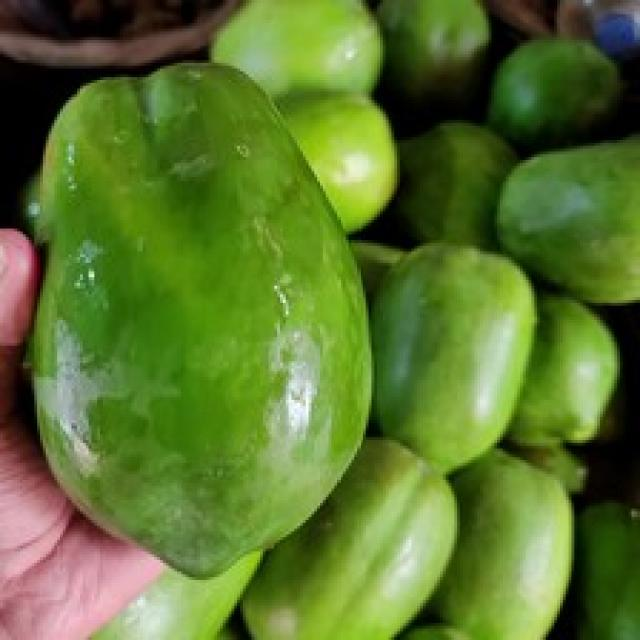Pepaya unrippen: (26, 51, 374, 584)
